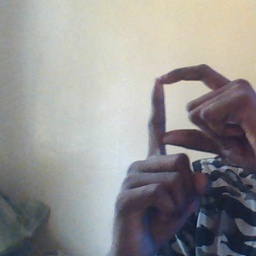D: (129, 57, 249, 180)
